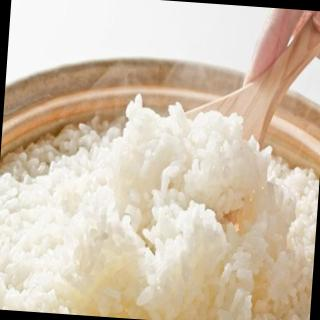Nasi: (1, 82, 320, 320)
